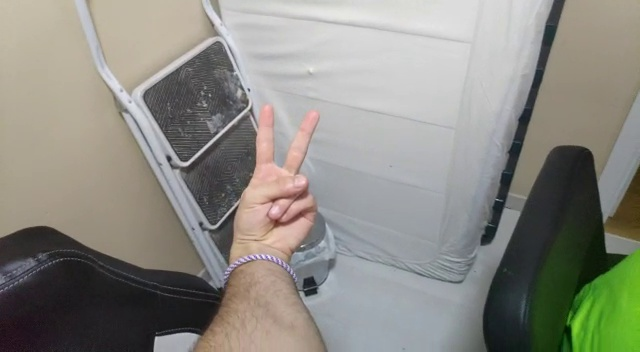Peace: (224, 97, 335, 246)
